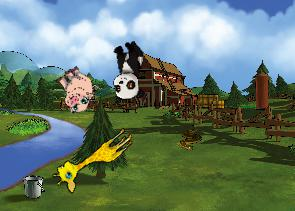giraffe: (48, 117, 137, 197)
panda: (110, 40, 145, 101)
pig: (48, 61, 103, 117)
